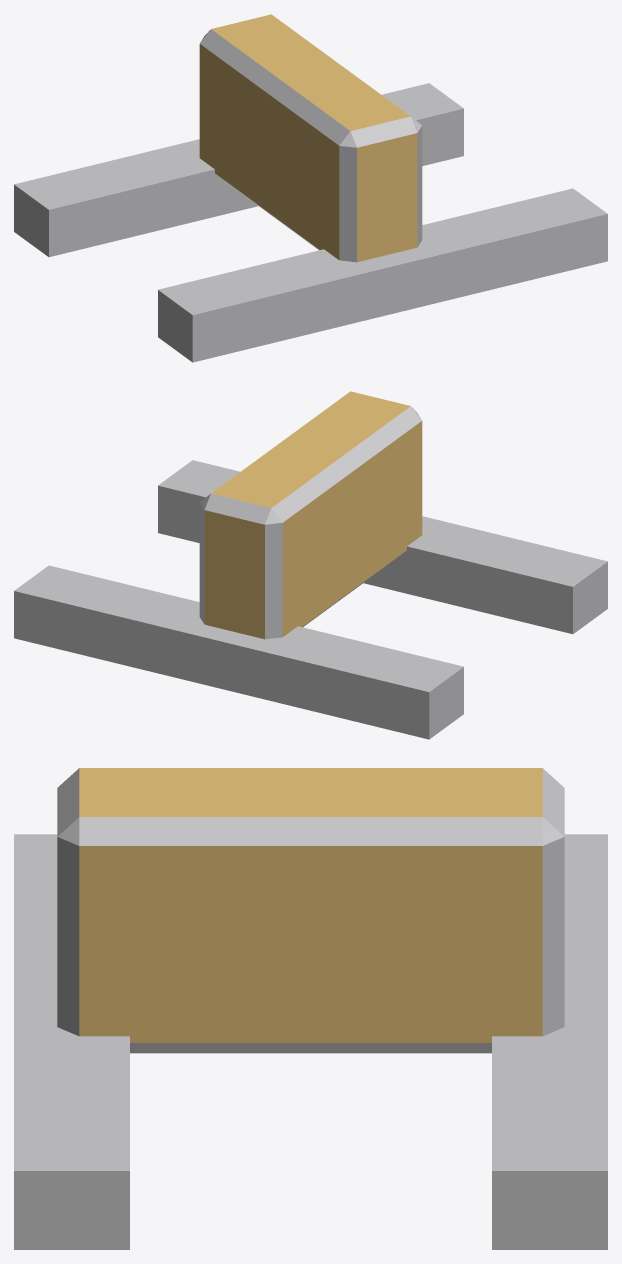
Rendered from CO_Base_Skid.fbx.
3 renders of one model, top to bottom at view 1: azimuth 30°, elevation 25°; view 2: azimuth 150°, elevation 25°; view 3: azimuth 270°, elevation 25°, orthographic. The views are drawn at different scales.
Visible parts, largest first — view 1: CO_Base_Skid; view 2: CO_Base_Skid; view 3: CO_Base_Skid.
Part boxes in pixels (x1,y1,x2,y2): CO_Base_Skid: (14,14,607,362); CO_Base_Skid: (14,391,607,739); CO_Base_Skid: (14,768,607,1249).
Size of the model in its own units: 1.1 by 0.44 by 0.82.
